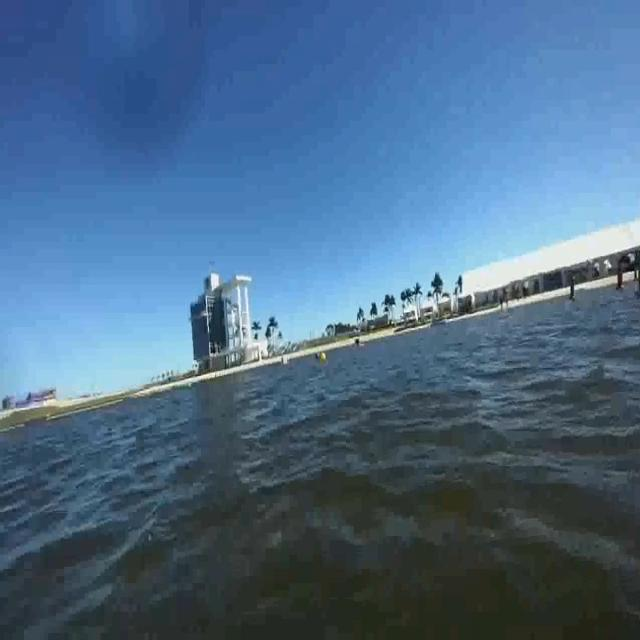green-column-buoy: (634, 263, 640, 292)
yellow-buoy: (320, 351, 327, 363)
